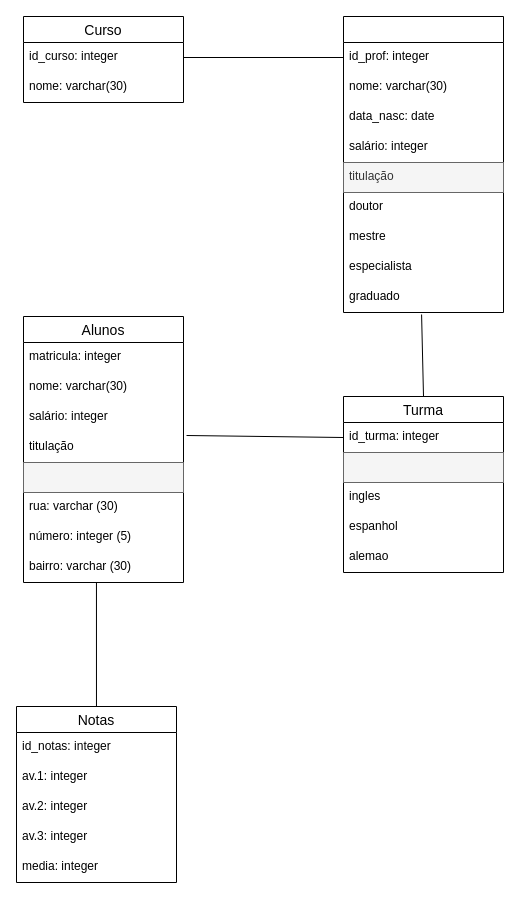
Image size: 520x899. Some labels were removed from this diagram. The box of each missing label's shape, as (x1, y1, x2, y2) in pixels:
endereço: (22, 462, 184, 492)
idiomas: (342, 452, 504, 482)
Professores: (342, 16, 504, 312)
